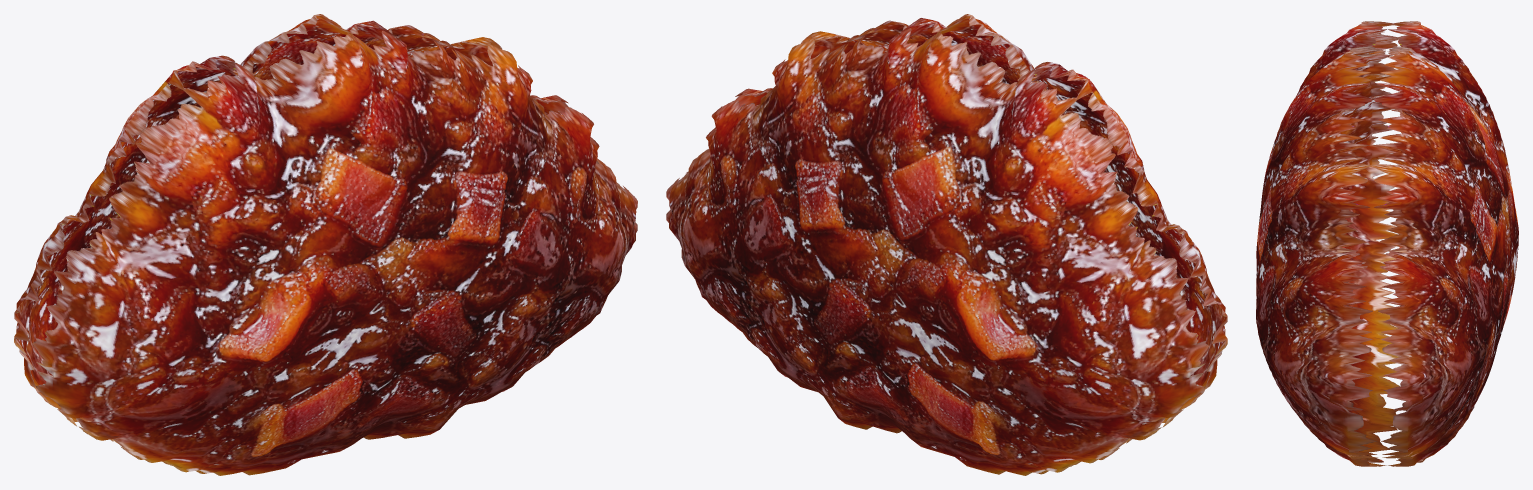
File: salsa-tocineta.glb
3 views of the same model, side by side, from view 1: azimuth 30°, elevation 25°; view 2: azimuth 150°, elevation 25°; view 3: azimuth 270°, elevation 25° (orthographic). The views are drawn at different scales.
Parts seen in each view (by area): view 1: salsa-tocineta; view 2: salsa-tocineta; view 3: salsa-tocineta.
Boxes of the visible parts, left/top/right/bottom form: salsa-tocineta: left=14, top=14, right=637, bottom=475; salsa-tocineta: left=666, top=14, right=1227, bottom=475; salsa-tocineta: left=1256, top=21, right=1518, bottom=466.
Bounding box in the file's own units: 1.98 × 1.42 × 0.8762.
Materials: 1 (1 with a texture image).
